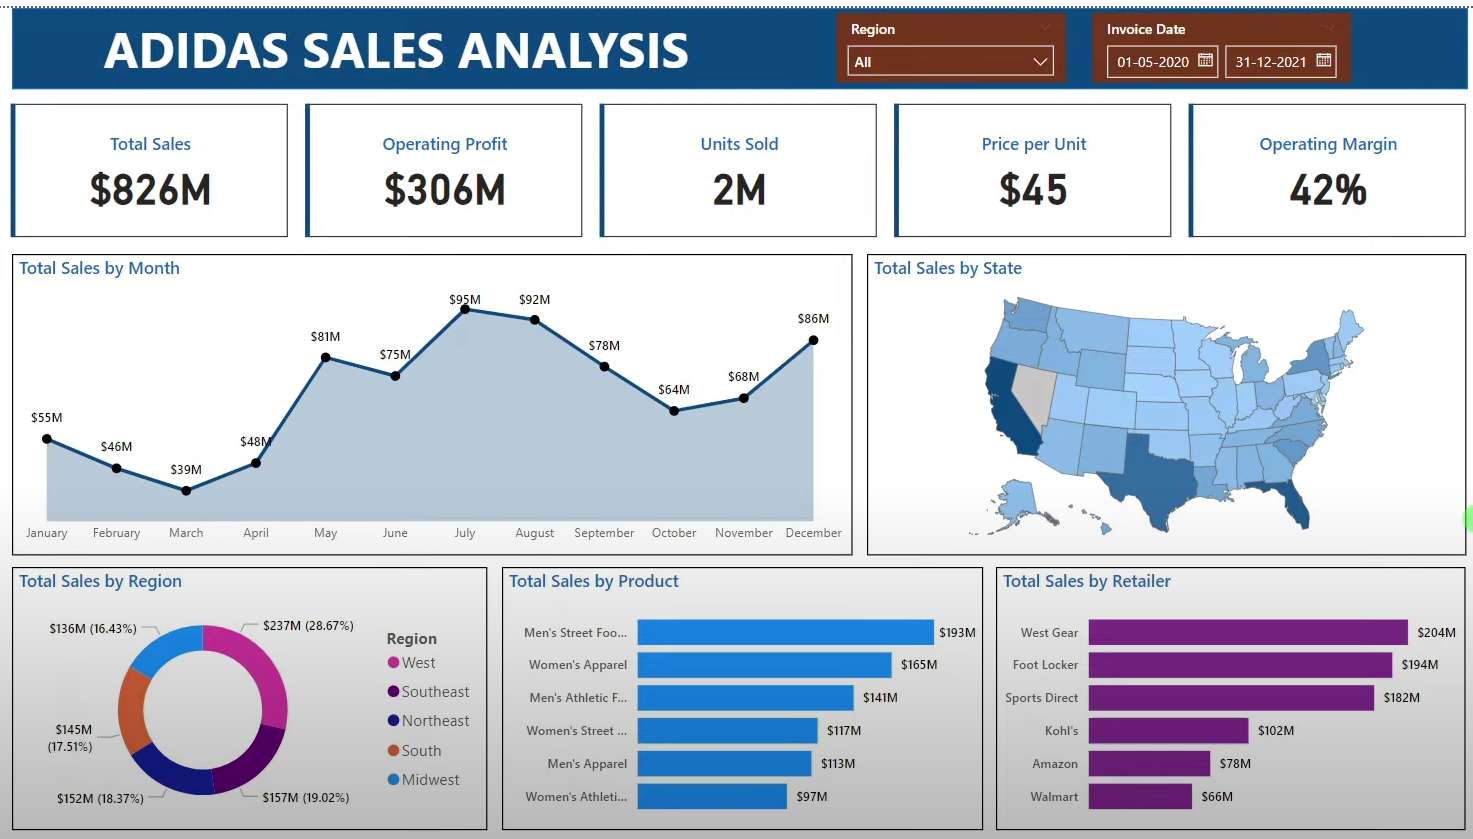

The dashboard page shown, as its layout file describes it:
{"tool":"powerbi","page":{"name":"Page 1","canvas":[1280,720],"ordinal":0},"visuals":[{"type":"shape","box":[9.6,0,1270.7,78.2],"z":0},{"type":"textbox","box":[174.3,0,599.7,78.2],"z":1000},{"type":"card","title":"Total Sales","fields":{"Values":["Sum(Data Sales Adidas.Total Sales)"]},"box":[20.6,91.9,209.9,85.1],"z":2000},{"type":"card","title":"Unit Sold","fields":{"Values":["Sum(Data Sales Adidas.Units Sold)"]},"box":[267.6,91.9,207.2,85.1],"z":3000},{"type":"card","title":" Price Per Unit","fields":{"Values":["Avg(Data Sales Adidas.Price per Unit)"]},"box":[502.2,91.9,222.3,85.1],"z":4000},{"type":"card","title":" Operating Profit","fields":{"Values":["Sum(Data Sales Adidas.Operating Profit)"]},"box":[754.7,91.9,229.2,85.1],"z":5000},{"type":"card","title":"Operating Margin","fields":{"Values":["Avg(Data Sales Adidas.Operating Margin)"]},"box":[1011.3,91.9,249.7,85.1],"z":6000},{"type":"areaChart","title":"Total Sales by Month","fields":{"Category":["Data Sales Adidas.Invoice Date.Variation.Date Hierarchy.Month"],"Y":["Sum(Data Sales Adidas.Total Sales)"]},"box":[20.6,199,724.5,262.1],"z":7000},{"type":"filledMap","title":" Total Sales By States","fields":{"Category":["Data Sales Adidas.City"],"Series":["Data Sales Adidas.Total Sales"]},"box":[754.7,199,506.3,262.1],"z":8000},{"type":"donutChart","title":"Total Sales by Region","fields":{"Category":["Data Sales Adidas.Region"],"Y":["Sum(Data Sales Adidas.Total Sales)"]},"box":[20.6,470.7,419.9,249.7],"z":9000},{"type":"barChart","title":" Total Sales by Product","fields":{"Category":["Data Sales Adidas.Product"],"Y":["Sum(Data Sales Adidas.Total Sales)"]},"box":[455.6,470.7,448.7,249.7],"z":10000},{"type":"barChart","title":" Total Sales by Retailer","fields":{"Y":["Sum(Data Sales Adidas.Total Sales)"],"Category":["Data Sales Adidas.Retailer"]},"box":[918,470.7,362.3,249.7],"z":11000},{"type":"slicer","fields":{"Values":["Data Sales Adidas.Region"]},"box":[776.7,4.1,185.2,68.6],"z":12000},{"type":"slicer","fields":{"Values":["Data Sales Adidas.Invoice Date"]},"box":[997.6,4.1,240.1,68.6],"z":13000},{"type":"image","box":[20.6,0,153.7,72.7],"z":13001}]}

Visuals, with their boxes in screenshot pixels (x1, y1, x2, y2), scaled from the page's 1280x720 canvas onto the 1473x839 screenshot:
shape: 11, 0, 1472, 91
textbox: 201, 0, 891, 91
"Total Sales" card: 24, 107, 265, 206
"Unit Sold" card: 308, 107, 546, 206
" Price Per Unit" card: 578, 107, 834, 206
" Operating Profit" card: 868, 107, 1132, 206
"Operating Margin" card: 1164, 107, 1451, 206
"Total Sales by Month" areaChart: 24, 232, 857, 537
" Total Sales By States" filledMap: 868, 232, 1451, 537
"Total Sales by Region" donutChart: 24, 548, 507, 838
" Total Sales by Product" barChart: 524, 548, 1041, 838
" Total Sales by Retailer" barChart: 1056, 548, 1472, 838
slicer - Data Sales Adidas.Region: 894, 5, 1107, 85
slicer - Data Sales Adidas.Invoice Date: 1148, 5, 1424, 85
image: 24, 0, 201, 85
